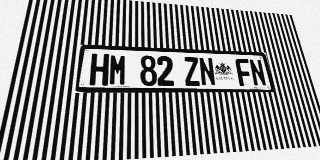2: (157, 56, 174, 86)
8: (140, 55, 157, 86)
F: (235, 58, 253, 86)
H: (89, 53, 109, 86)
M: (108, 54, 127, 86)
N: (198, 57, 216, 86), (248, 59, 267, 86)
Z: (183, 57, 201, 86)
